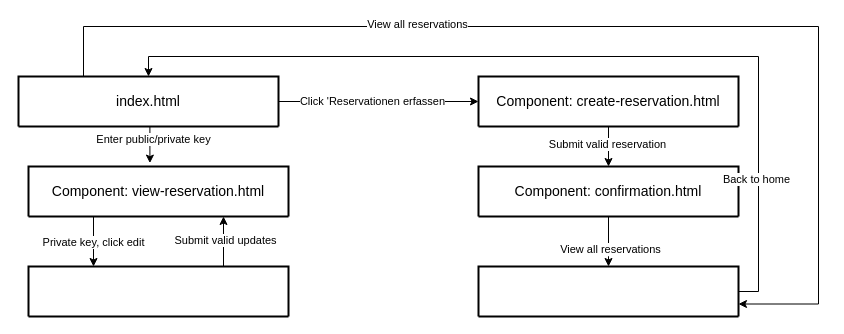
Image size: 844x334. Some labels were removed from this diagram. Here are the shapes that lost their labels. From the top down, the centre of each, then its label:
At pixel 158 291: "Component: edit-reservation.html".
At pixel 608 291: "Component: list-reservations.html".
